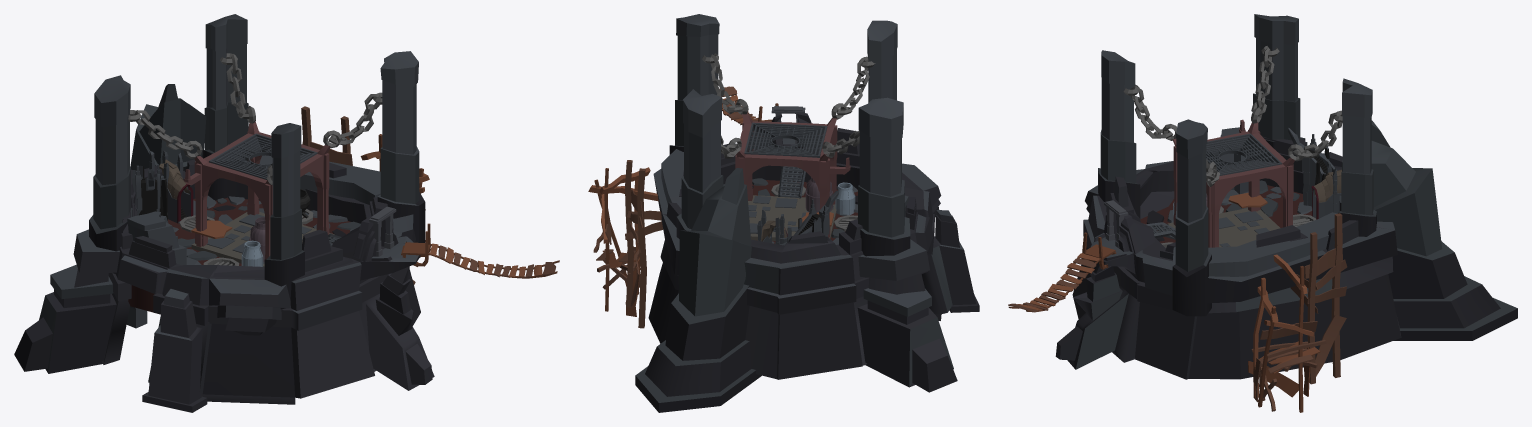
3 renders of one model, left to right at view 1: azimuth 30°, elevation 25°; view 2: azimuth 150°, elevation 25°; view 3: azimuth 270°, elevation 25°, orthographic. The views are drawn at different scales.
Visible parts, largest first — view 1: segment_2; view 2: segment_2; view 3: segment_2.
Part boxes in pixels (x1,y1,x2,y2): segment_2: [14, 14, 559, 412]; segment_2: [588, 14, 979, 412]; segment_2: [1008, 14, 1517, 412].
Size of the model in its own units: 44.58 by 29.75 by 51.45.
